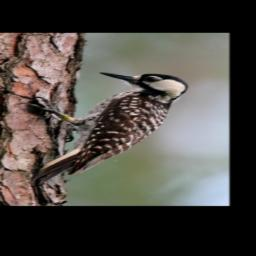Woodpecker: (20, 71, 189, 186)
